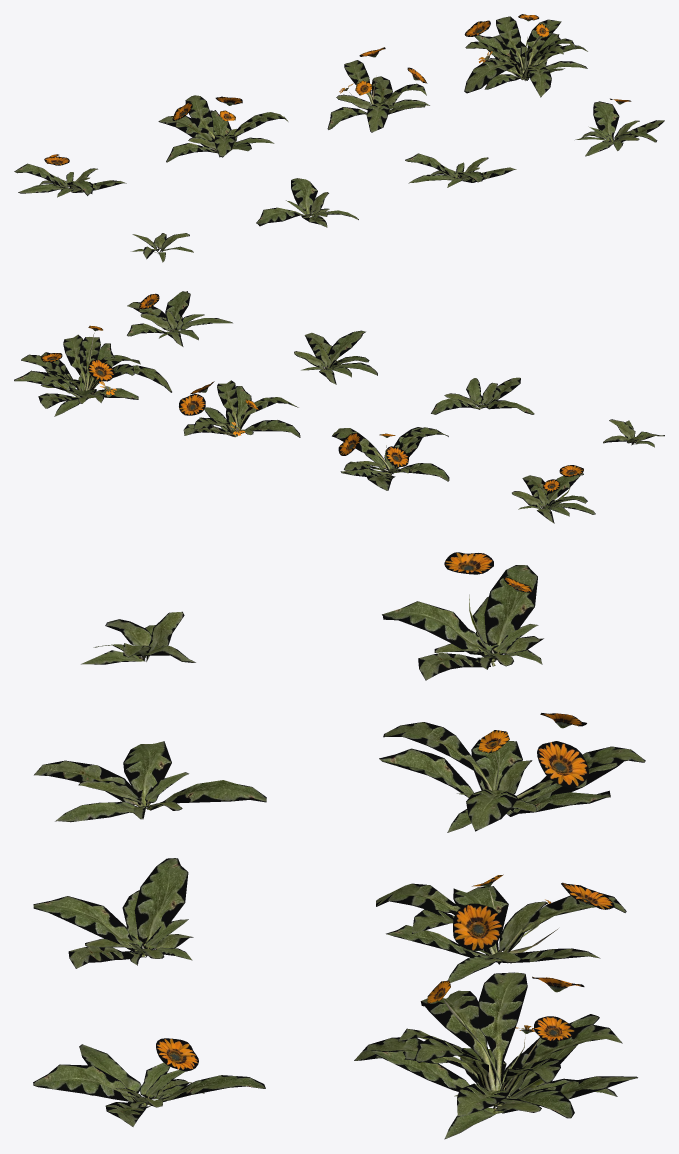
Rendered from fleurs_gazania_lod0.glb.
3 views of the same model, one above another, from view 1: azimuth 30°, elevation 25°; view 2: azimuth 150°, elevation 25°; view 3: azimuth 270°, elevation 25° (orthographic). The views are drawn at different scales.
Visible parts, largest first — view 1: flower_gazania_a_LOD0; view 2: flower_gazania_a_LOD0; view 3: flower_gazania_a_LOD0.
Boxes of the visible parts, x1=… form: flower_gazania_a_LOD0: x1=14, y1=14, x2=664, y2=262; flower_gazania_a_LOD0: x1=14, y1=291, x2=664, y2=523; flower_gazania_a_LOD0: x1=33, y1=552, x2=645, y2=1139.
Size of the model in its own units: 1.48 by 0.1652 by 0.7009.
1 material, 1 textured.
